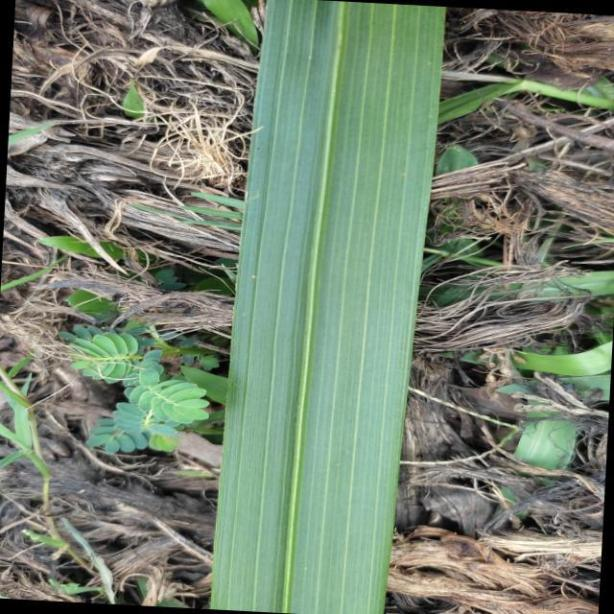Healthy: (212, 1, 446, 614)
